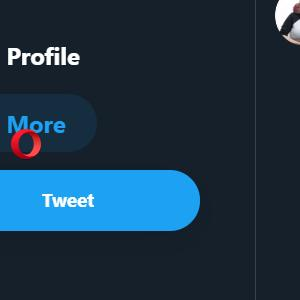opera: (10, 129, 41, 160)
